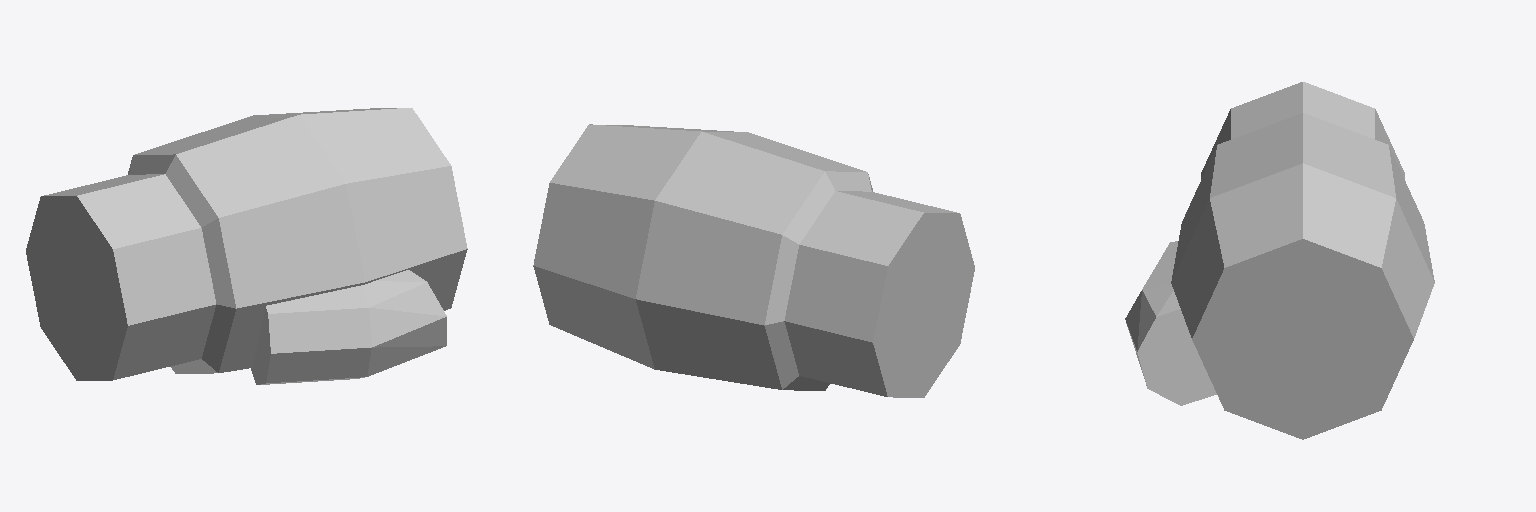
Rendered from boxingglove.obj.
The picture shows the model from 3 angles: view 1: azimuth 30°, elevation 25°; view 2: azimuth 150°, elevation 25°; view 3: azimuth 270°, elevation 25°; orthographic projection.
Visible parts, largest first — view 1: boxingglove; view 2: boxingglove; view 3: boxingglove.
Boxes of the visible parts, <box> form: boxingglove: <box>26,108,467,384</box>; boxingglove: <box>533,124,974,397</box>; boxingglove: <box>1125,82,1434,439</box>.
Bounding box in the file's own units: 2.27 × 1.55 × 1.82.